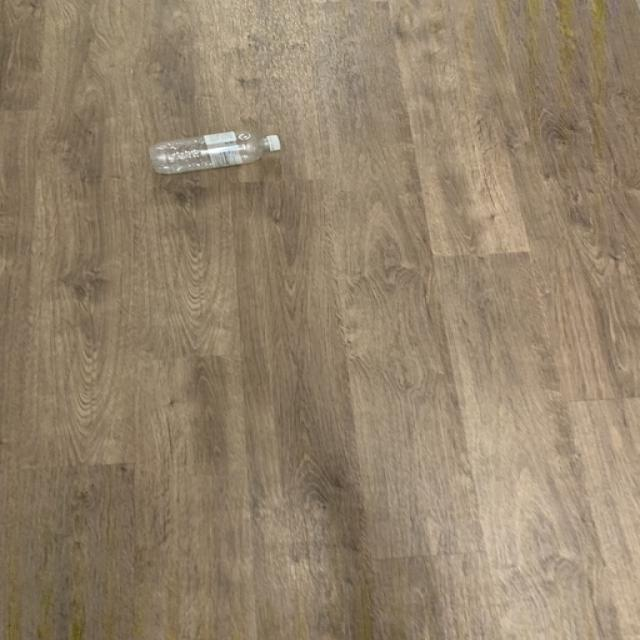litter: (148, 130, 278, 177)
